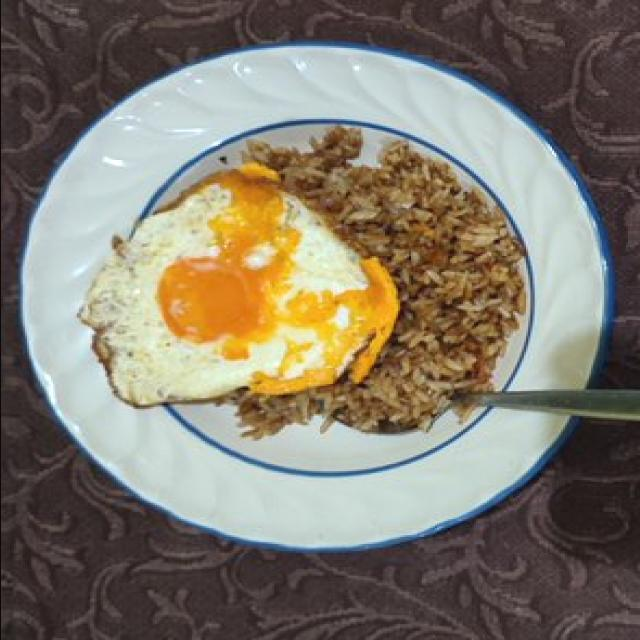telur ceplok: (80, 164, 401, 405)
